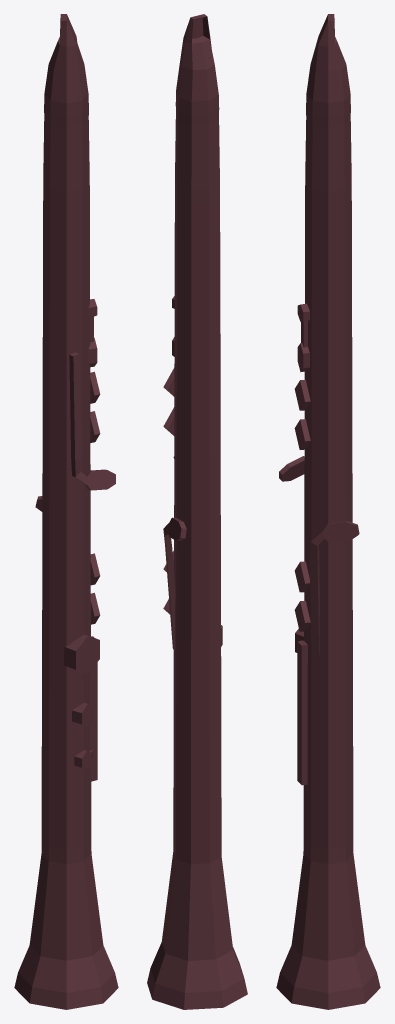
Rendered from clarinet.fbx.
The picture shows the model from 3 angles, left to right: view 1: azimuth 90°, elevation 25°; view 2: azimuth 210°, elevation 25°; view 3: azimuth 270°, elevation 25°; orthographic projection.
Visible parts, largest first — view 1: clarinet; view 2: clarinet; view 3: clarinet.
Part boxes in pixels (box(x1,y1,x2,y2)): clarinet: box(14, 14, 118, 1009); clarinet: box(147, 14, 247, 1009); clarinet: box(276, 14, 380, 1009).
Bounding box in the file's own units: 0.0688 × 0.7069 × 0.0688.
